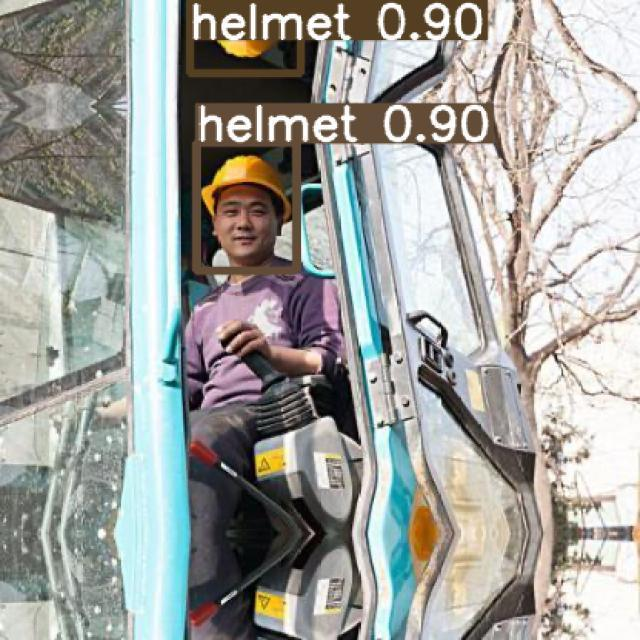yellow helmet: (199, 138, 314, 226), (181, 31, 316, 83)
